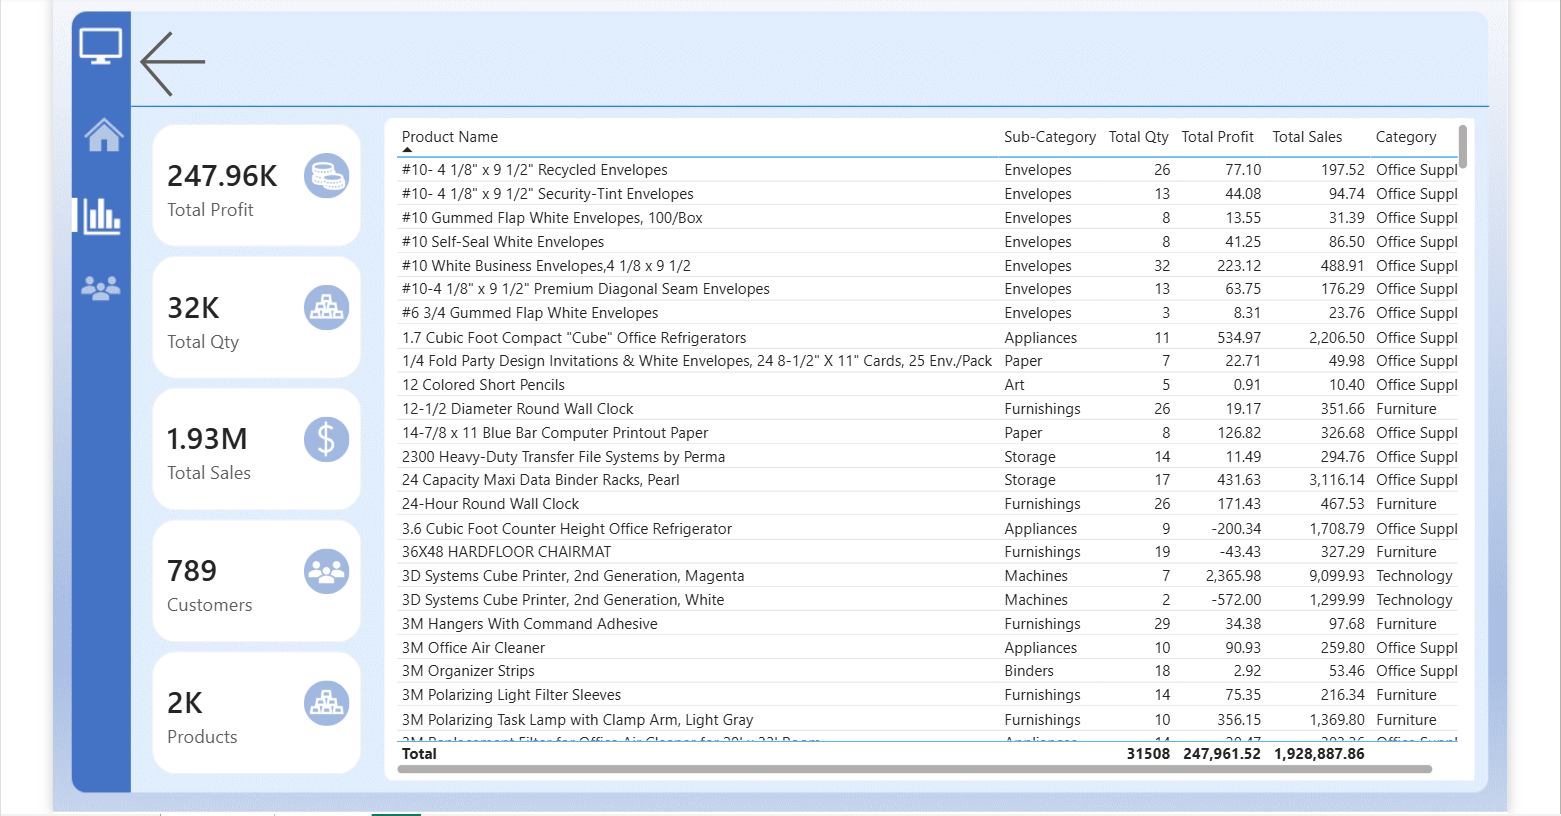

This screenshot's page, from the dashboard's own definition file:
{"tool":"powerbi","page":{"name":"Details","canvas":[1280,720],"ordinal":1},"visuals":[{"type":"tableEx","fields":{"Values":["Dim Product.Product Name","Dim Product.Sub-Category","Measures (2).Total Qty","Measures (2).Total Profit","Measures (2).Total Sales","Dim Product.Category"]},"box":[296,108,954,582],"z":0},{"type":"cardVisual","fields":{"Data":["Measures (2).Total Profit","Measures (2).Total Qty","Measures (2).Total Sales","Measures (2).Customers","Measures (2).Products"]},"box":[70,95.7,218.6,607.1],"z":1000},{"type":"actionButton","box":[70,24.3,151.4,71.4],"z":2000}]}

Visuals, with their boxes on the page's 1280x720 design canvas (x1, y1, x2, y2). These are canvas units, not pixel positions in the 1561x816 screenshot, which may show the page scaled, cropped or inside an application window:
tableEx - Dim Product.Product Name x Dim Product.Sub-Category: {"x1": 296, "y1": 108, "x2": 1250, "y2": 690}
cardVisual - Measures (2).Total Profit x Measures (2).Total Qty: {"x1": 70, "y1": 96, "x2": 289, "y2": 703}
actionButton: {"x1": 70, "y1": 24, "x2": 221, "y2": 96}
